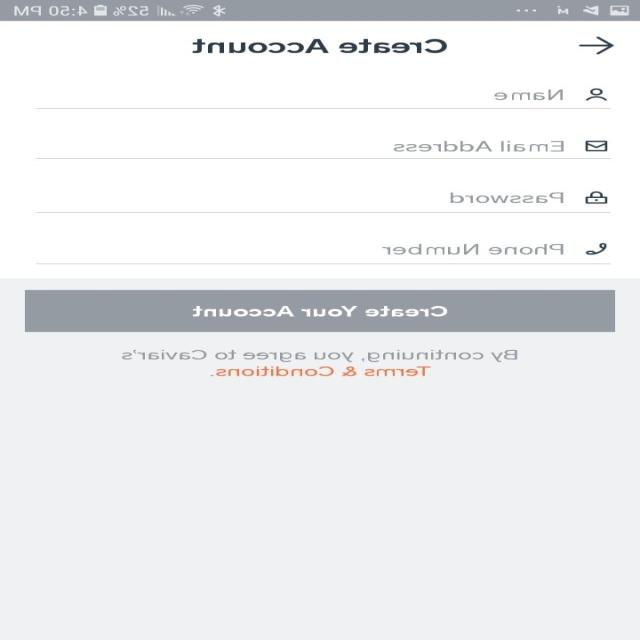EditText: (38, 87, 612, 109), (37, 190, 610, 212), (37, 242, 610, 264), (38, 140, 612, 159)
Icon: (578, 36, 616, 55), (585, 191, 608, 204), (585, 88, 607, 101), (585, 242, 607, 255), (585, 140, 608, 152)
Text: (121, 349, 518, 376), (192, 39, 448, 53), (393, 140, 564, 152), (382, 244, 564, 254), (450, 192, 564, 203), (493, 90, 563, 100)
TextButton: (26, 289, 616, 332)
